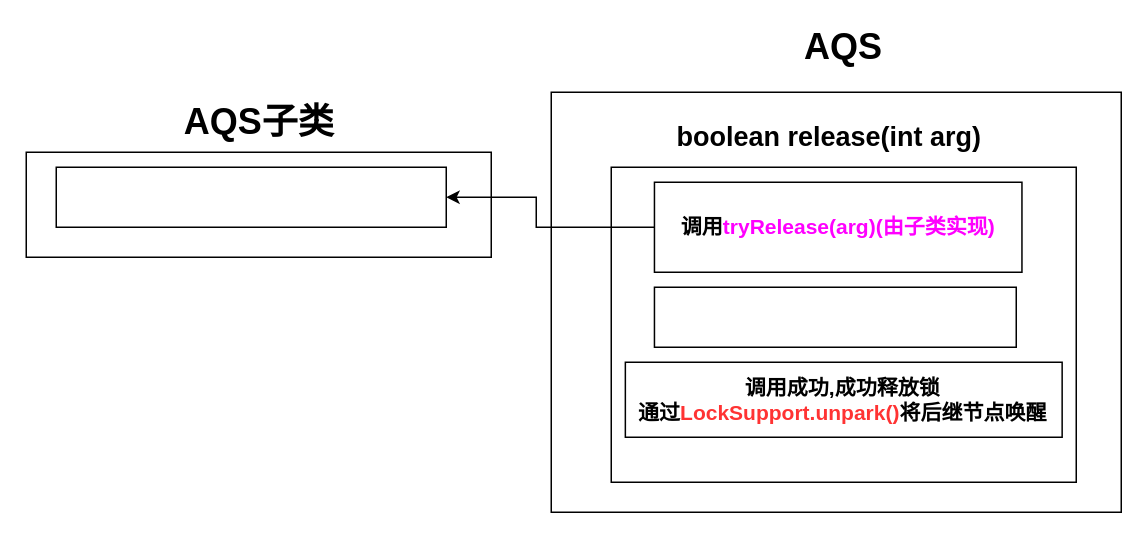
Image size: 1148x539. Some labels were removed from this diagram. Here are the shapes that lost their labels. From the top down, the centre of each, then its label:
(250,196): boolean tryRelease(int arg)
(834,316): 调用失败，返回false
